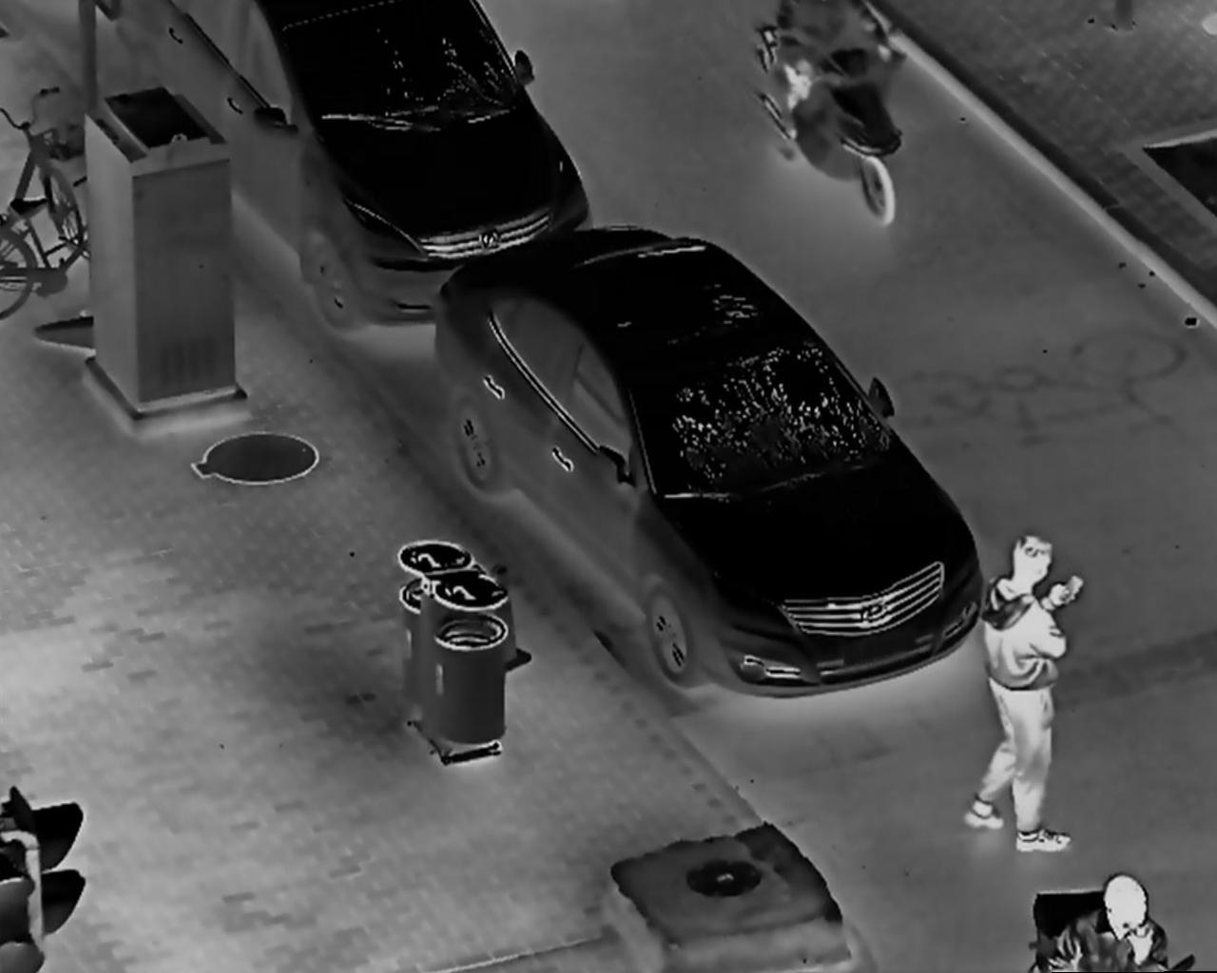person: (969, 525, 1087, 857), (1029, 868, 1195, 973)
